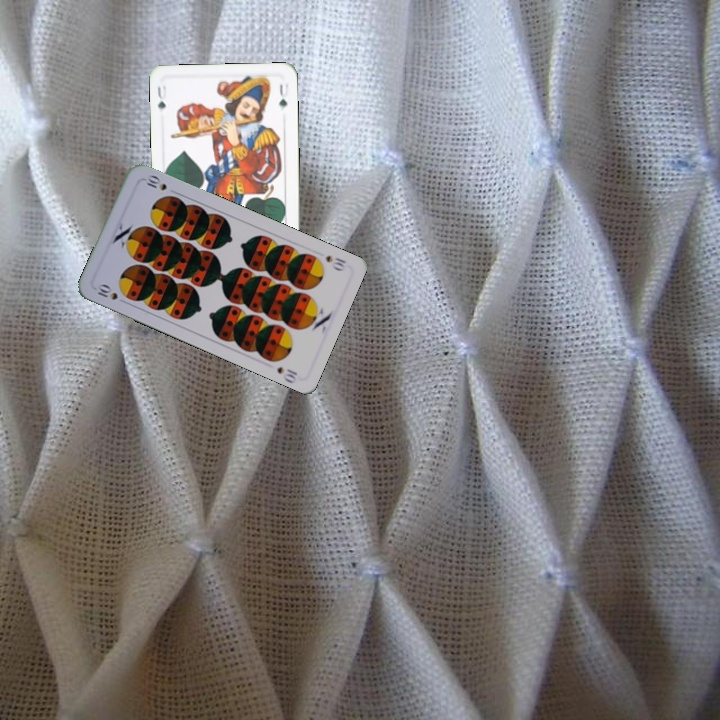GU: (154, 81, 169, 112)
S10: (93, 280, 130, 306), (322, 251, 348, 274)
